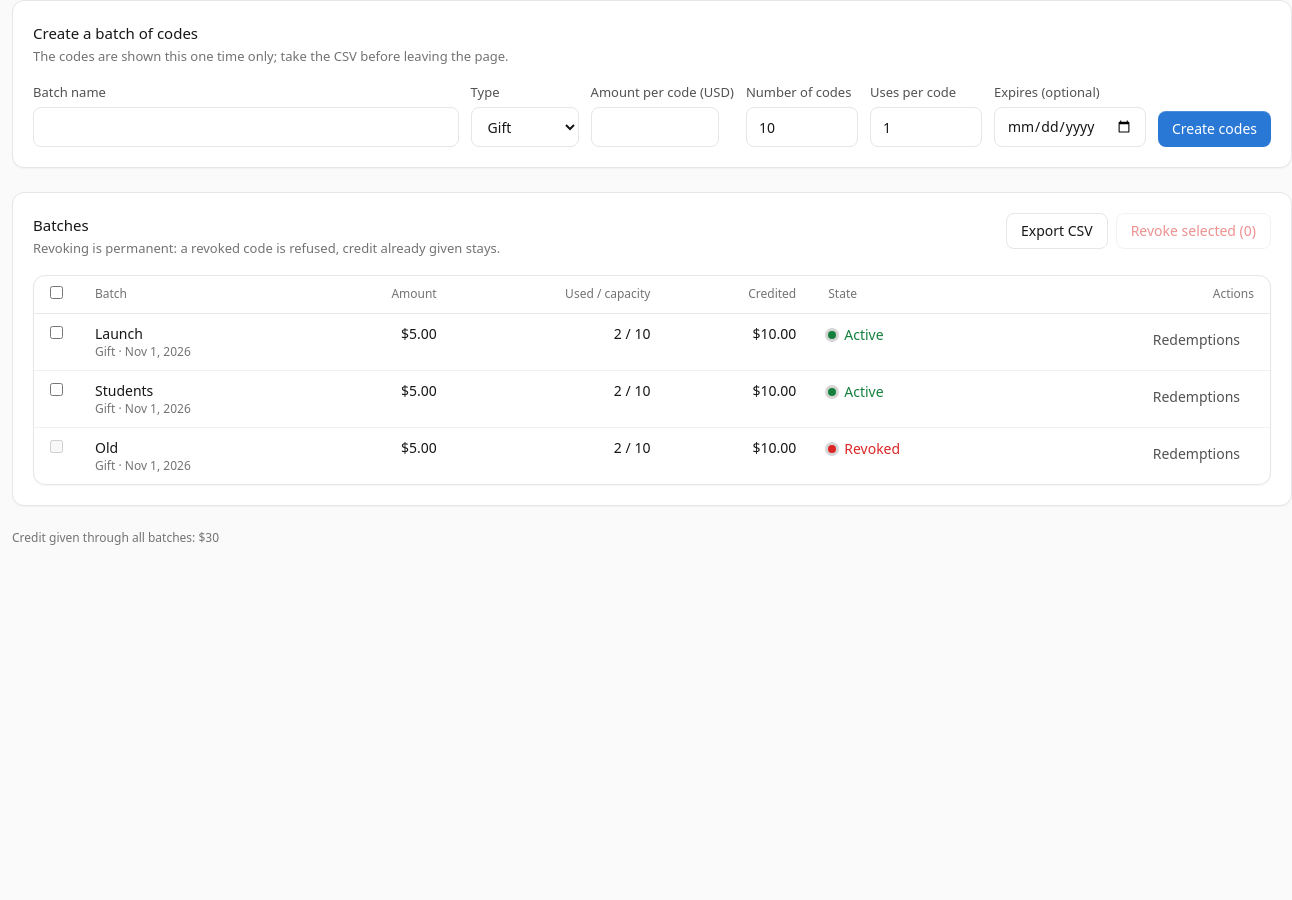
Test case: billing gift codes (card 25.1) › shows who redeemed a batch
The image size is (1292, 900).
Click the button "Redemptions" in the row of "Launch": x=1196, y=340 [1139,322,1254,358]
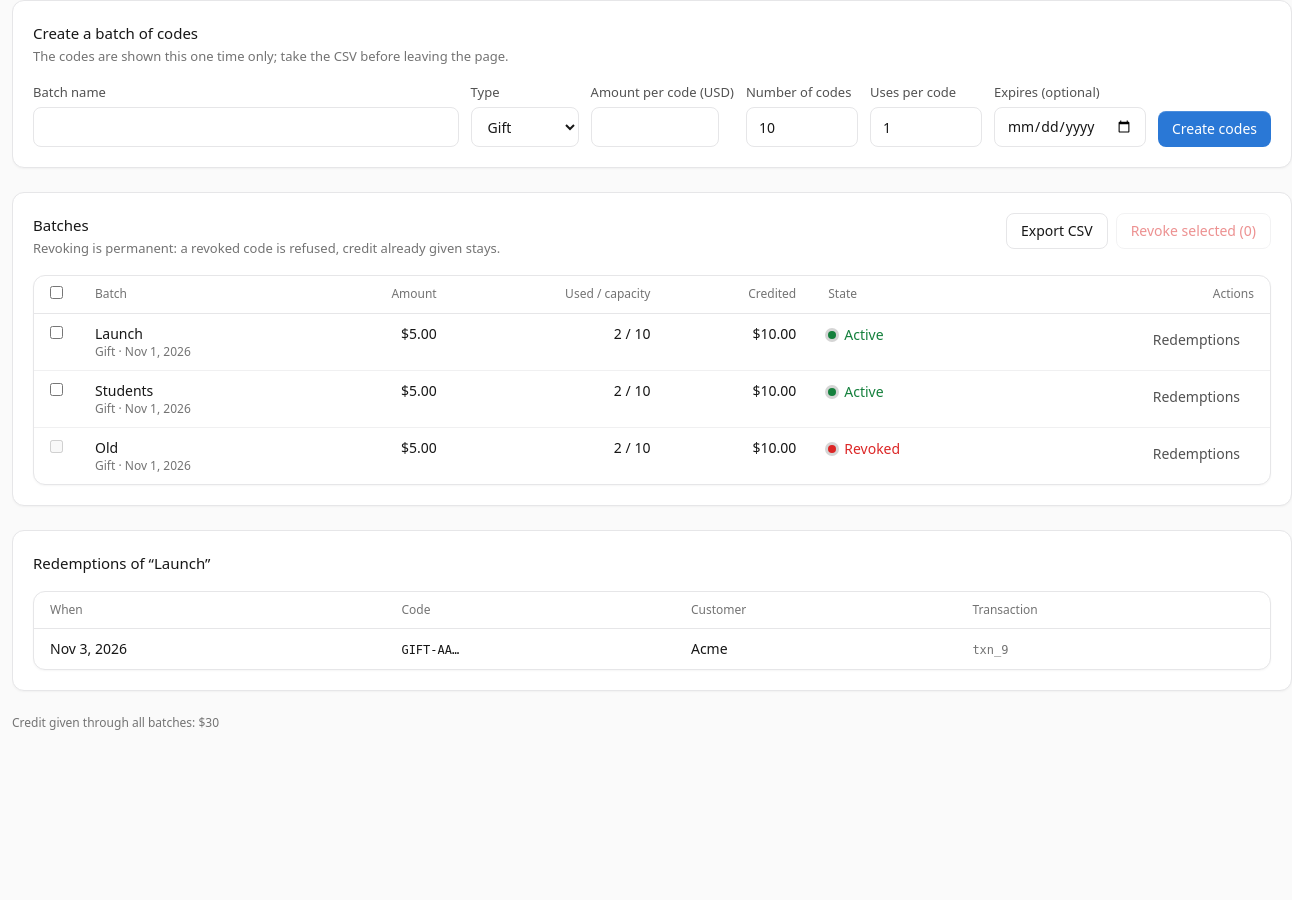
expect the text "Acme" is shown: met, box [675,629,956,669]
expect the text "GIFT-AA…" is shown: met, box [401,643,459,657]
